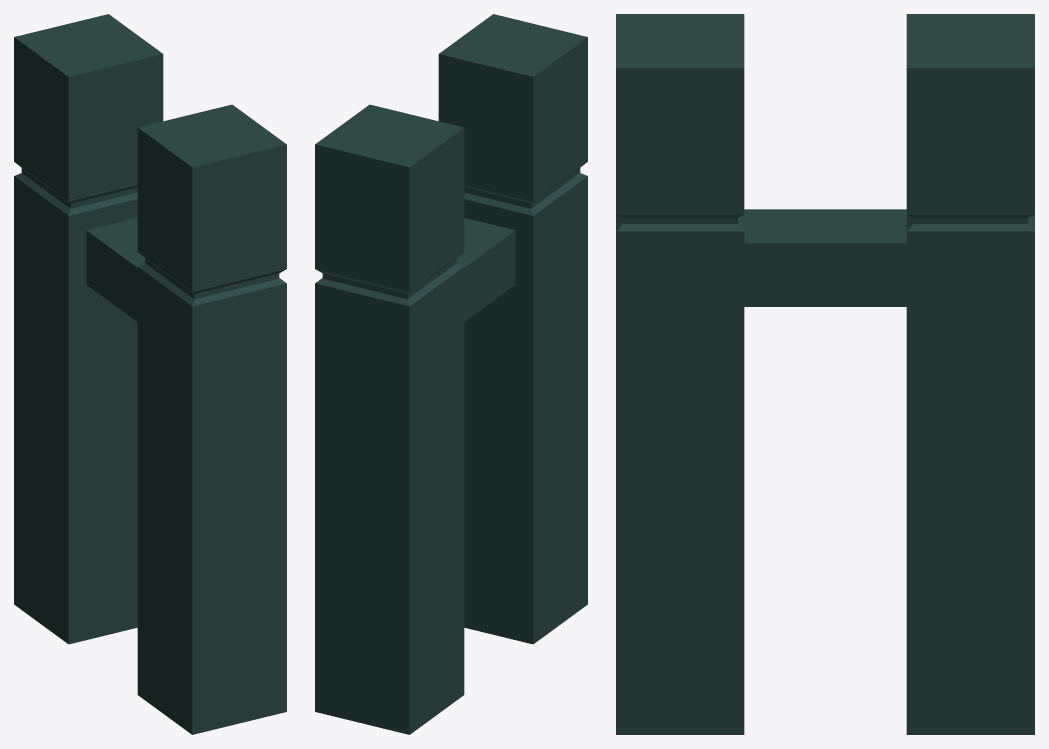
The model's file is gebouwDubbel2.fbx.
The picture shows the model from 3 angles, left to right: view 1: azimuth 30°, elevation 25°; view 2: azimuth 150°, elevation 25°; view 3: azimuth 270°, elevation 25°; orthographic projection. The views are drawn at different scales.
Visible parts, largest first — view 1: polySurface27; view 2: polySurface27; view 3: polySurface27.
Part boxes in pixels (x1,y1,x2,y2): polySurface27: (14, 14, 286, 734); polySurface27: (315, 14, 587, 734); polySurface27: (616, 14, 1034, 734).
Size of the model in its own units: 4.75 by 27.26 by 15.52.
